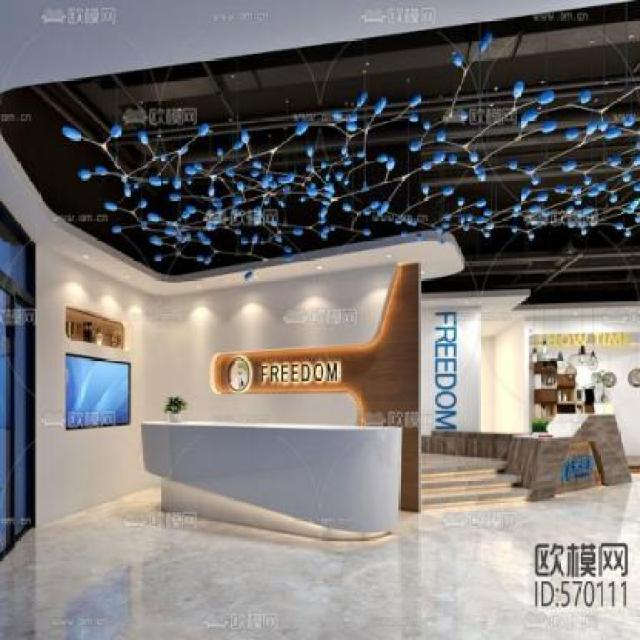frontdesk: (137, 404, 408, 544)
